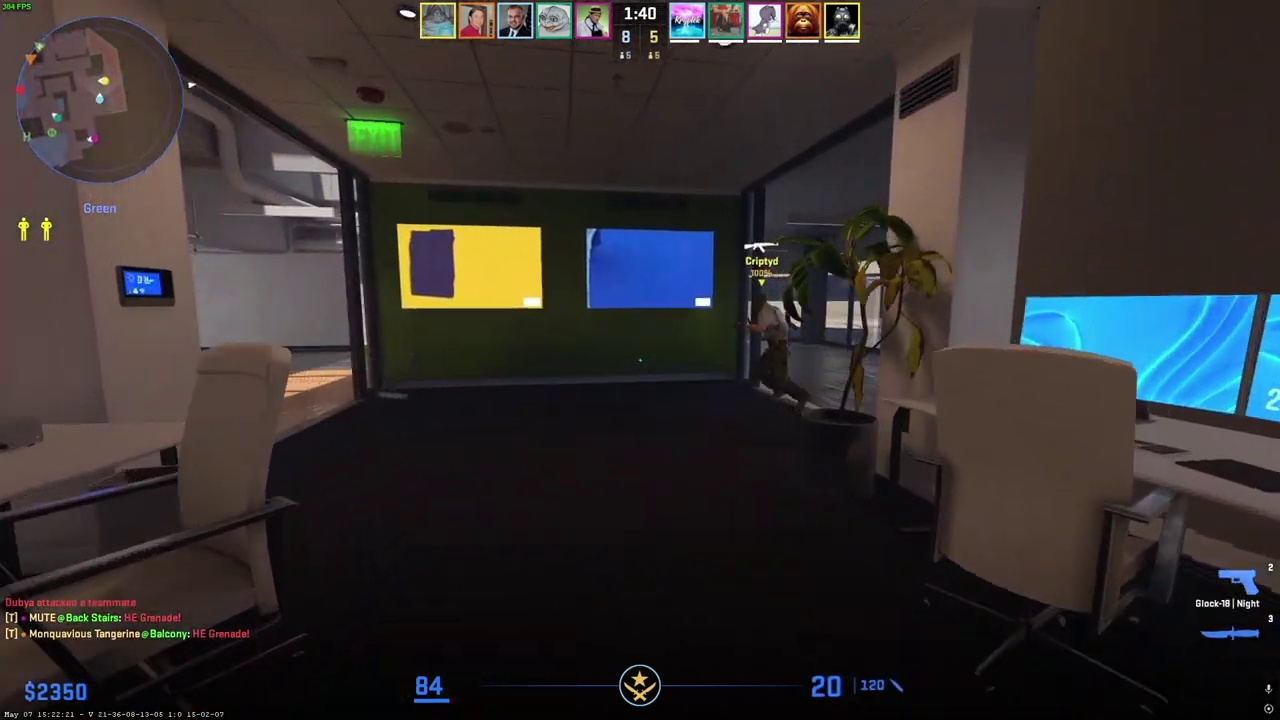Terrorist: (749, 293, 800, 408)
